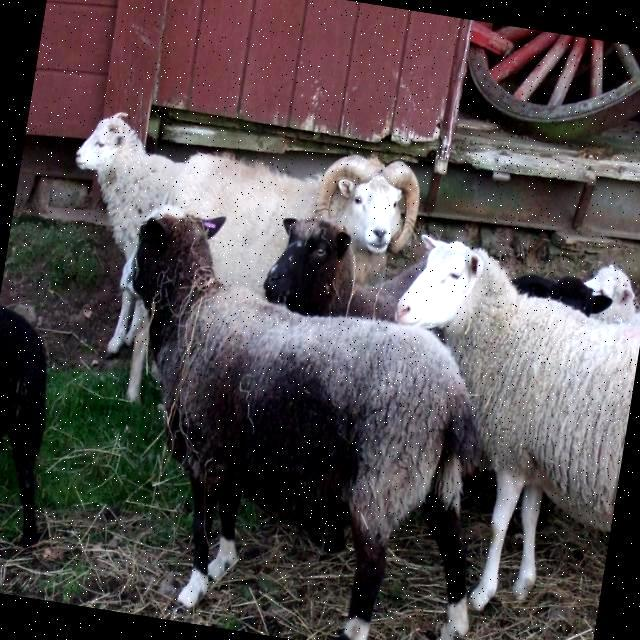sheep: (395, 233, 640, 606)
